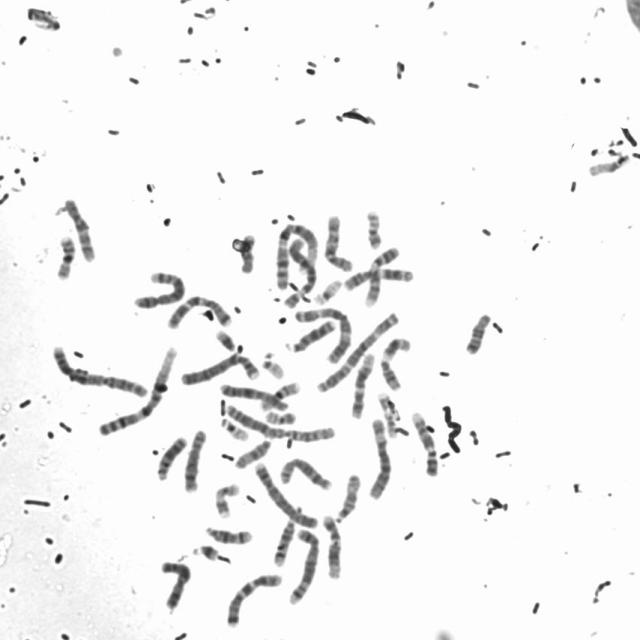A1: (94, 342, 180, 438), (272, 219, 322, 290)
A2: (47, 342, 150, 399), (222, 399, 338, 443)
A3: (313, 307, 402, 393), (290, 302, 354, 364)
B4: (250, 458, 320, 530), (177, 349, 264, 386)
B5: (284, 524, 322, 605), (130, 267, 188, 310)
C10: (59, 194, 97, 263), (320, 210, 355, 272)
C11: (339, 263, 415, 293), (376, 334, 414, 391)
C12: (347, 349, 376, 420), (319, 512, 344, 580)
C6: (364, 414, 395, 501), (285, 234, 318, 300)
C7: (222, 569, 286, 629), (163, 291, 236, 330)
C8: (276, 453, 333, 491), (181, 425, 209, 494)
C9: (362, 242, 402, 308), (407, 408, 440, 478)
D13: (282, 316, 336, 353), (153, 431, 190, 482)
D14: (270, 512, 300, 568), (202, 522, 254, 545)
D15: (331, 469, 363, 525), (231, 435, 273, 470)
E16: (256, 377, 302, 412), (53, 231, 77, 281)
E17: (211, 479, 241, 519), (374, 389, 398, 439)
E18: (462, 309, 493, 356), (235, 231, 257, 274)
F19: (584, 148, 632, 178), (311, 275, 343, 306)
F20: (363, 206, 384, 251), (261, 406, 298, 426)
G21: (212, 326, 238, 352), (191, 540, 221, 562)
G22: (217, 414, 251, 442), (259, 355, 286, 380)
X: (216, 380, 290, 412), (155, 556, 193, 612)
